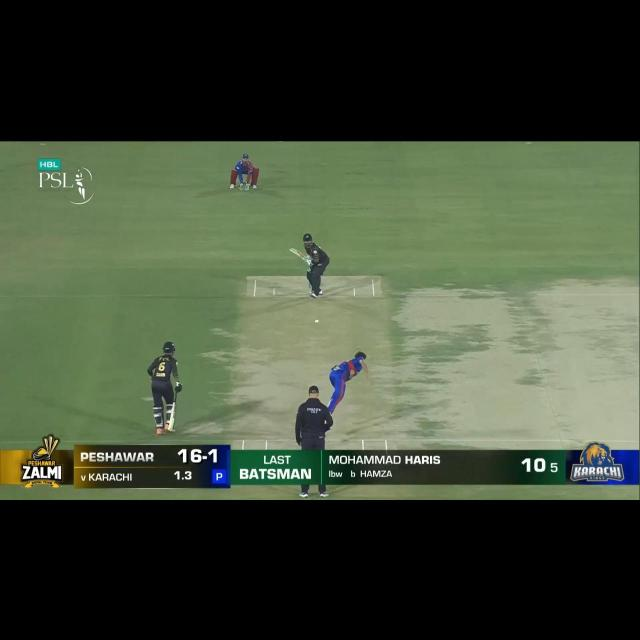bat: (168, 400, 178, 432), (289, 248, 307, 258)
toe: (167, 427, 176, 433), (288, 248, 298, 252)
